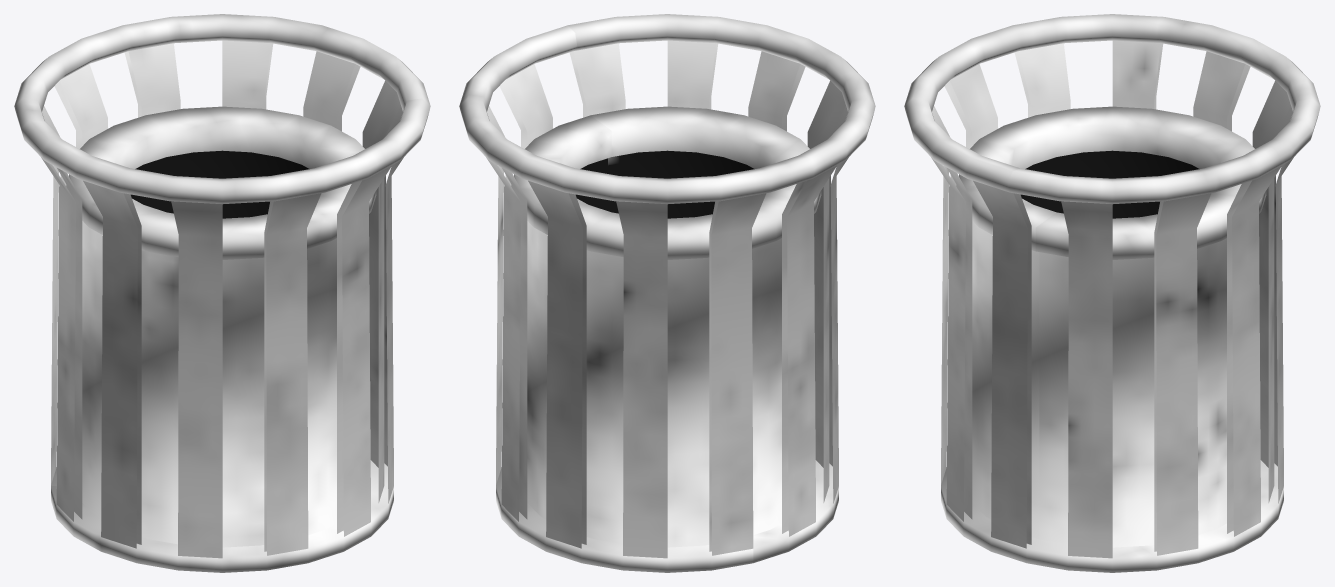
The picture shows the model from 3 angles, left to right: view 1: azimuth 30°, elevation 25°; view 2: azimuth 150°, elevation 25°; view 3: azimuth 270°, elevation 25°; orthographic projection.
Visible parts, largest first — view 1: TrashCanLined_Lod1_Model; view 2: TrashCanLined_Lod1_Model; view 3: TrashCanLined_Lod1_Model.
Boxes of the visible parts, box(x1,y1,x2,y2) form: TrashCanLined_Lod1_Model: box(14, 14, 430, 572); TrashCanLined_Lod1_Model: box(459, 14, 875, 572); TrashCanLined_Lod1_Model: box(904, 14, 1320, 572).
Bounding box in the file's own units: 0.8752 × 0.9325 × 0.8752.
1 material, 1 textured.
